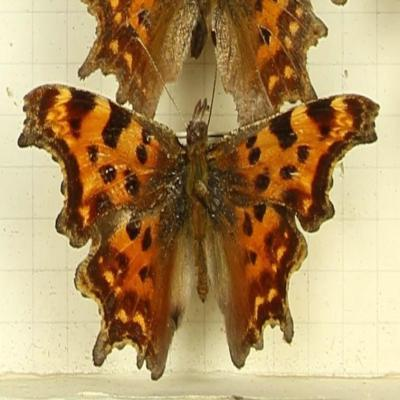natural_science_collection: (17, 84, 381, 382)
